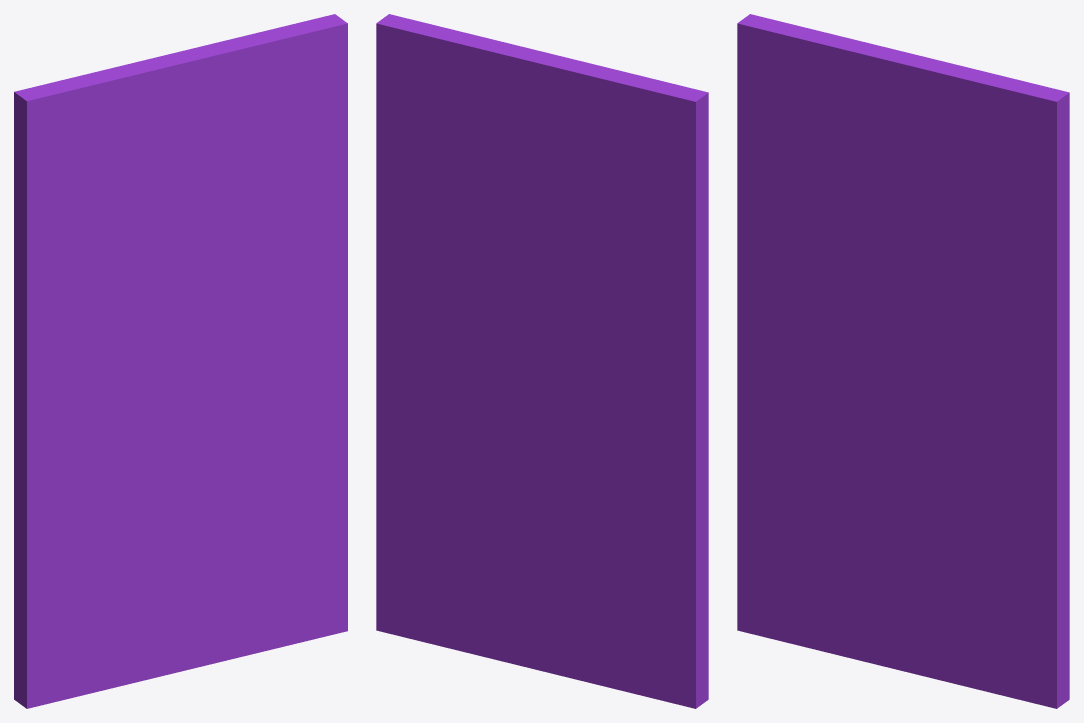
File: Glass_17_chunks.fbx
3 views of the same model, side by side, from view 1: azimuth 30°, elevation 25°; view 2: azimuth 150°, elevation 25°; view 3: azimuth 330°, elevation 25° (orthographic).
Parts seen in each view (by area): view 1: Glass_17_1, Glass_17_0, Glass_17_2, Glass_17_3; view 2: Glass_17_1, Glass_17_0, Glass_17_2, Glass_17_3; view 3: Glass_17_1, Glass_17_0, Glass_17_3, Glass_17_2.
Boxes of the visible parts, <box> form: Glass_17_1: <box>76,377,347,696</box>; Glass_17_0: <box>14,29,273,348</box>; Glass_17_2: <box>14,304,191,708</box>; Glass_17_3: <box>178,14,347,378</box>; Glass_17_1: <box>376,355,665,701</box>; Glass_17_0: <box>437,36,708,376</box>; Glass_17_2: <box>548,297,708,708</box>; Glass_17_3: <box>376,14,519,357</box>; Glass_17_1: <box>786,379,1069,708</box>; Glass_17_0: <box>737,14,1008,344</box>; Glass_17_3: <box>888,77,1069,456</box>; Glass_17_2: <box>737,227,901,642</box>.
Bounding box in the file's own units: 390 × 706 × 28.3.
